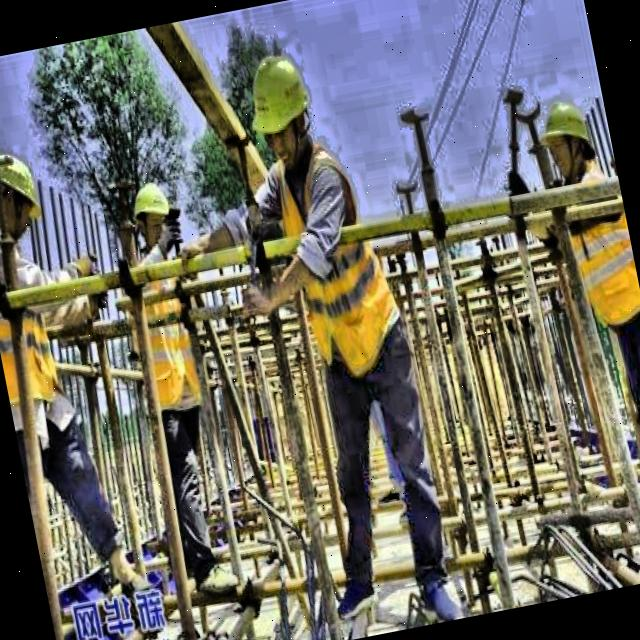helmet: (238, 43, 322, 176), (531, 88, 601, 185), (0, 143, 52, 248), (127, 178, 179, 248)
